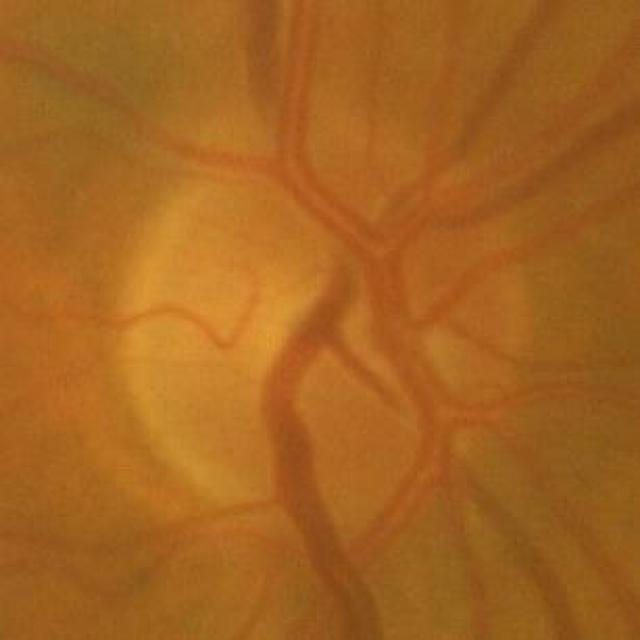OC: (250, 245, 406, 384)
OD: (114, 95, 546, 570)
